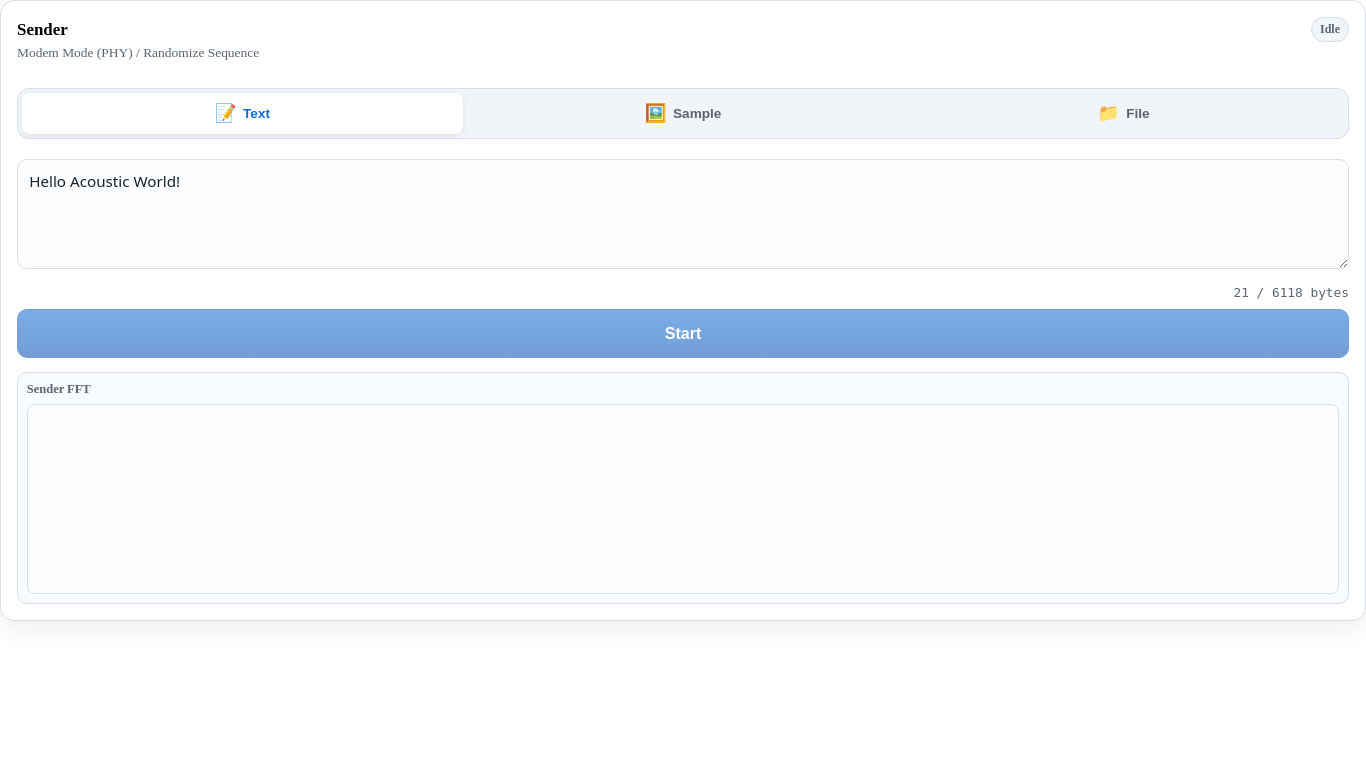
Test: Sender.vue › File Selection and Preview › should show drop zone when file mode is selected without file
The image size is (1366, 768).
// ファイルモードのタブを選択
Click the button with class "tab-item" showing "📁 File".
click(1124, 114)  # box 903,93 -> 1344,134
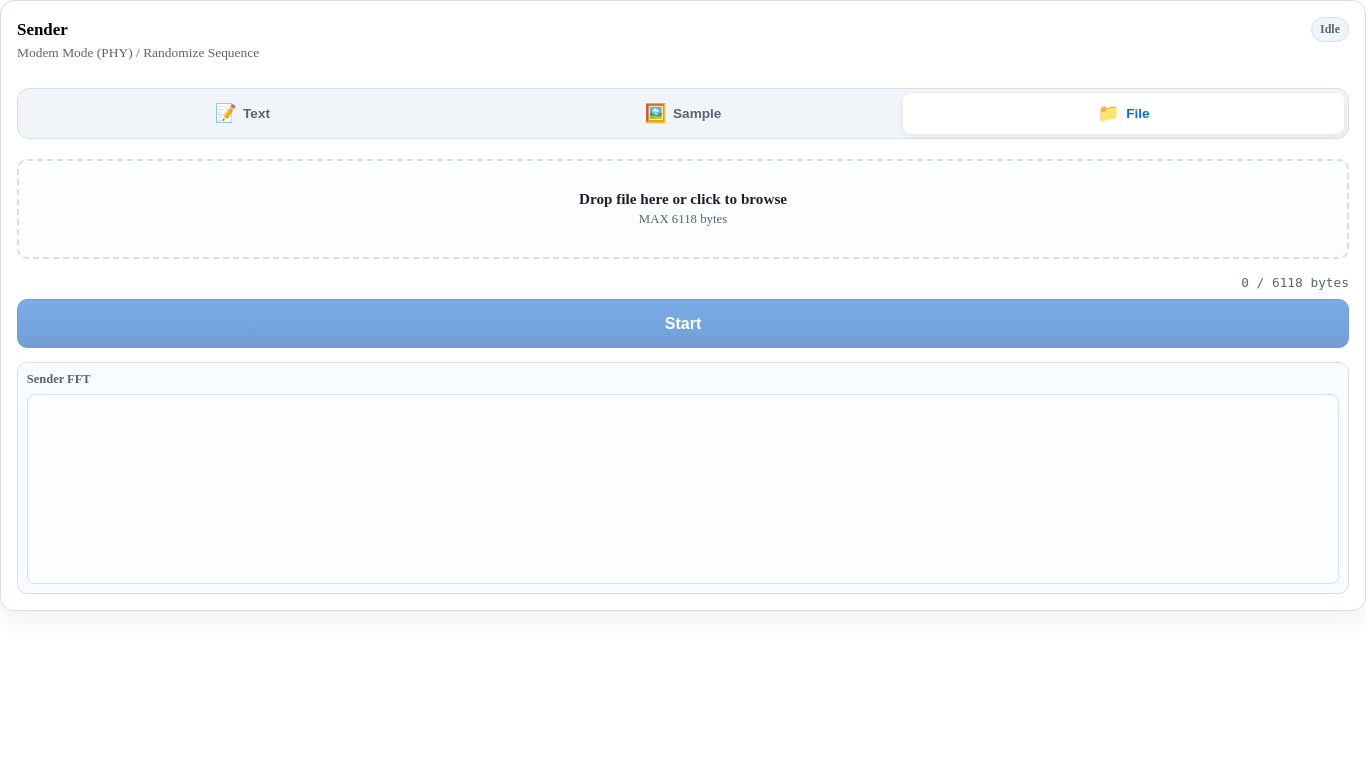
Expected: the element with class "drop-zone" is shown, 17,159 -> 1349,259
